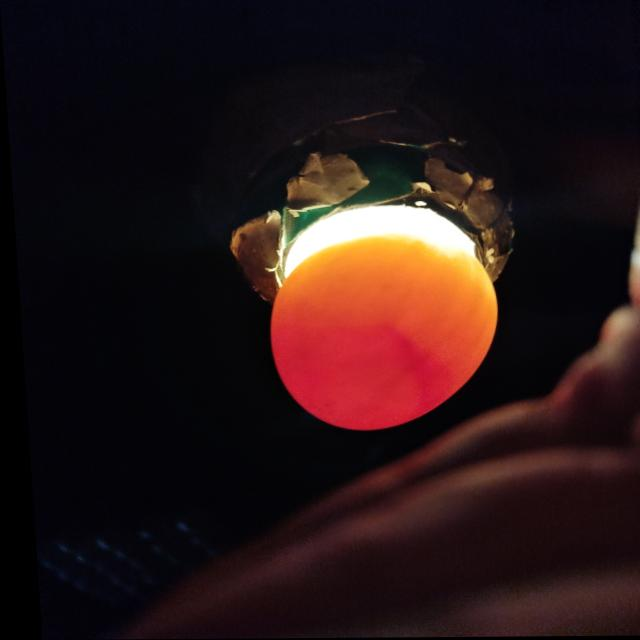Camara de Ar: (267, 293, 458, 431)
